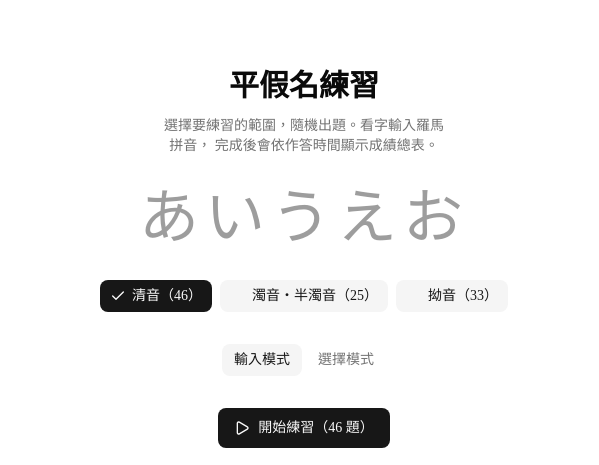
Scenario: practice flow › set selection builds the deck (voiced only → 25 questions)
Expected: the button "開始練習（46 題）" is shown, [218,408,390,448]
Click the button "濁音・半濁音（25）": [304, 296] box [220,280,388,312]
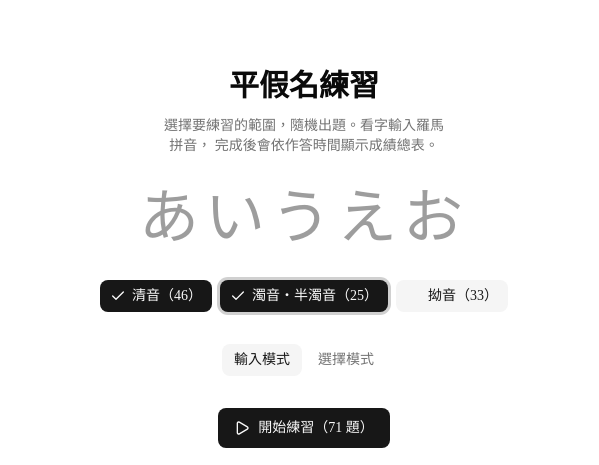
Expected: the button "開始練習（71 題）" is shown, [218,408,390,448]
Click the button "清音（46）": [156, 296] box [100,280,212,312]
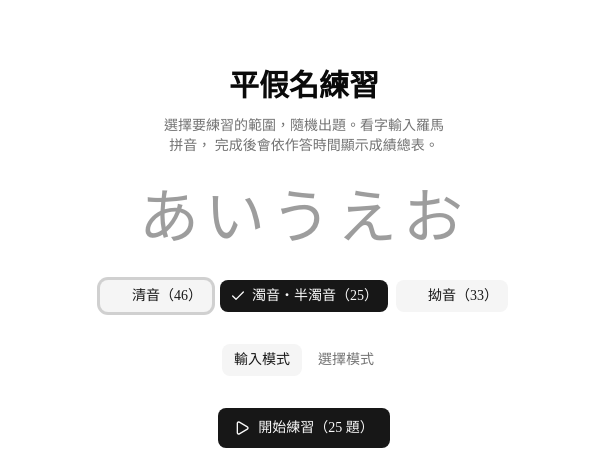
Click the button "開始練習（25 題）": [304, 428] box [218,408,390,448]
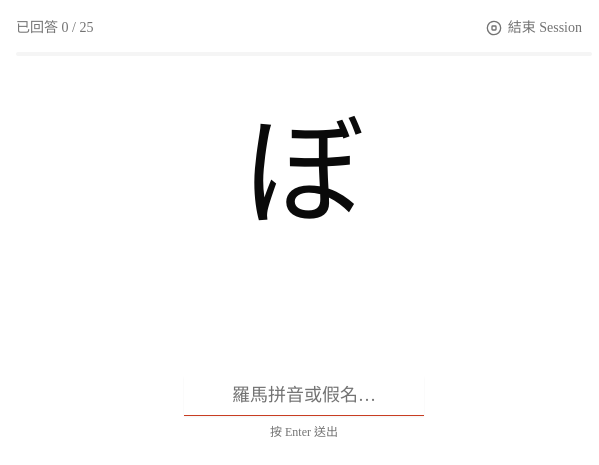
Expected: the text "已回答 0 / 25" is shown, [16,18,93,38]
